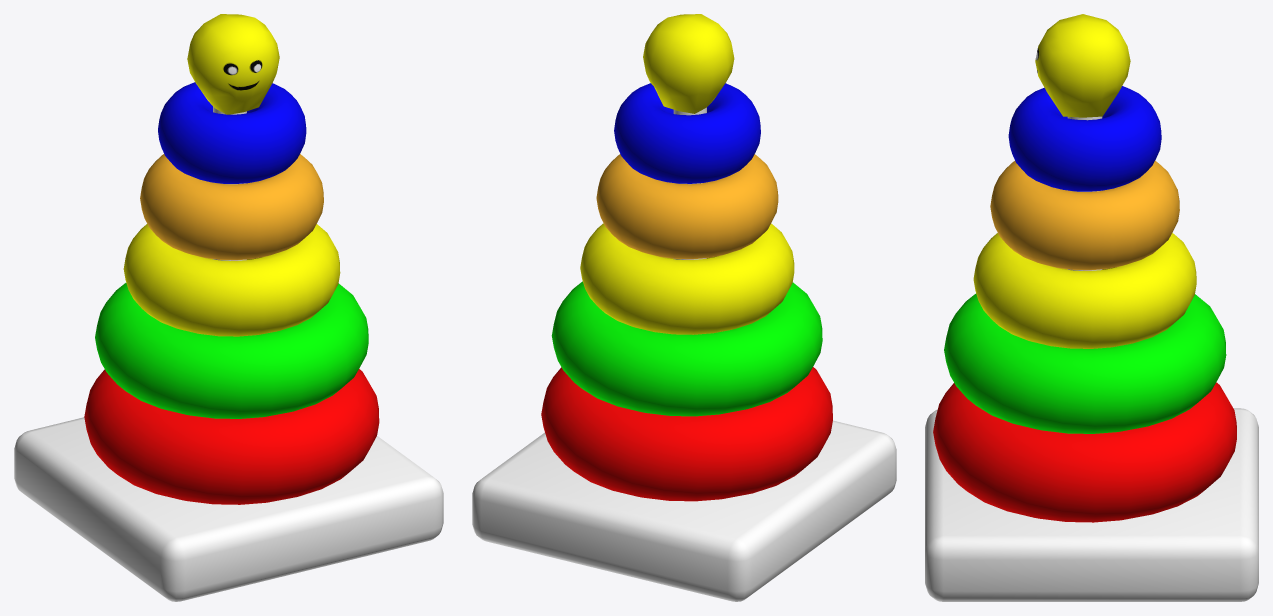
Rendered from Toy rings.fbx.
The picture shows the model from 3 angles, left to right: view 1: azimuth 30°, elevation 25°; view 2: azimuth 150°, elevation 25°; view 3: azimuth 270°, elevation 25°; orthographic projection. The views are drawn at different scales.
Parts seen in each view (by area): view 1: Stacking toy; view 2: Stacking toy; view 3: Stacking toy.
Boxes of the visible parts, <box> form: Stacking toy: <box>14,14,443,601</box>; Stacking toy: <box>472,14,896,601</box>; Stacking toy: <box>925,14,1258,601</box>.
Size of the model in its own units: 140 by 239 by 140.
Materials: 1 (1 with a texture image).
